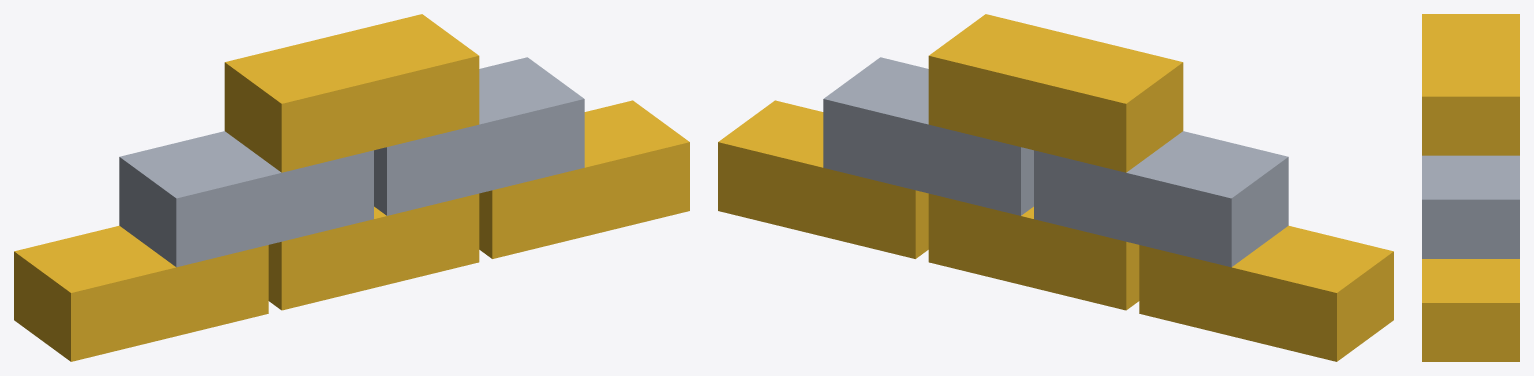
Rendered from ingot_stack.glb.
3 views of the same model, side by side, from view 1: azimuth 30°, elevation 25°; view 2: azimuth 150°, elevation 25°; view 3: azimuth 270°, elevation 25° (orthographic). The views are drawn at different scales.
Visible parts, largest first — view 1: ingot_stack; view 2: ingot_stack; view 3: ingot_stack.
Part boxes in pixels (left/top/right/bottom): ingot_stack: left=14, top=14, right=689, bottom=361; ingot_stack: left=718, top=14, right=1393, bottom=361; ingot_stack: left=1422, top=14, right=1519, bottom=361.
Size of the model in its own units: 0.94 by 0.3 by 0.15.
